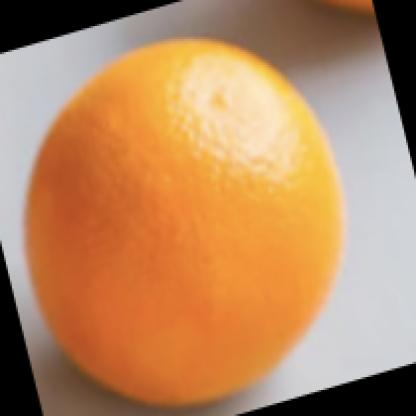fresh: (32, 33, 342, 401)
